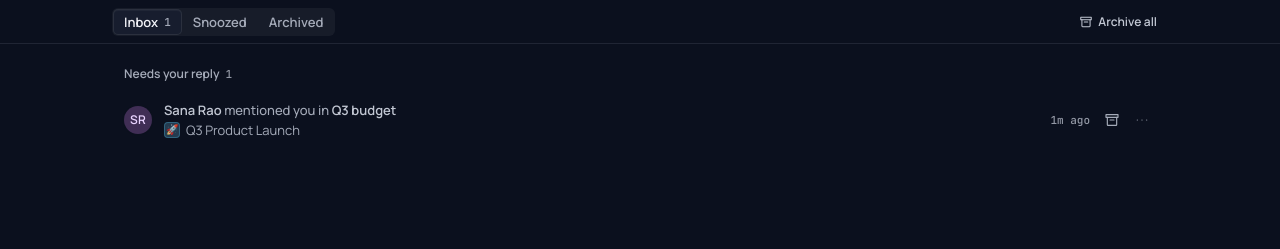
InboxView — one-key actions › R opens an inline reply; ⌘↵ sends it to the task with the person mentioned
The width and height of the screenshot is (1280, 249).
Press j
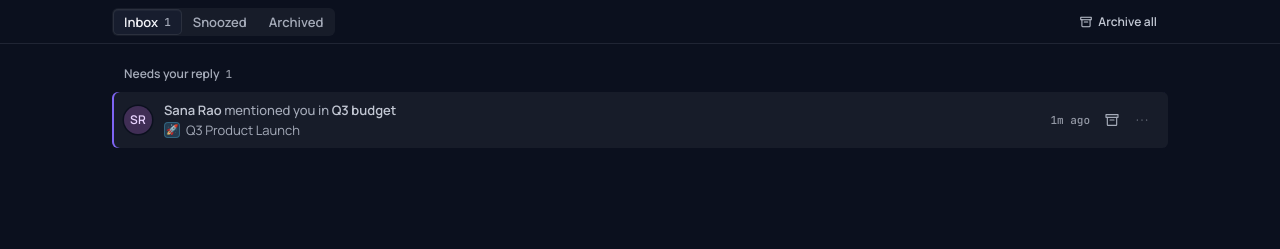
Press r in the button "Sana Rao mentioned you in Q3 budget", box [164,100,1038,120]
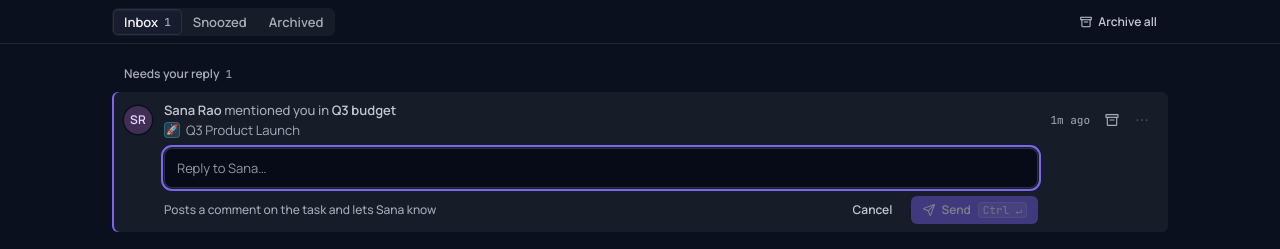
Type "On it, sending tonight" into the text box labelled "Reply to Sana" at (601, 168), box [164,148,1038,188]
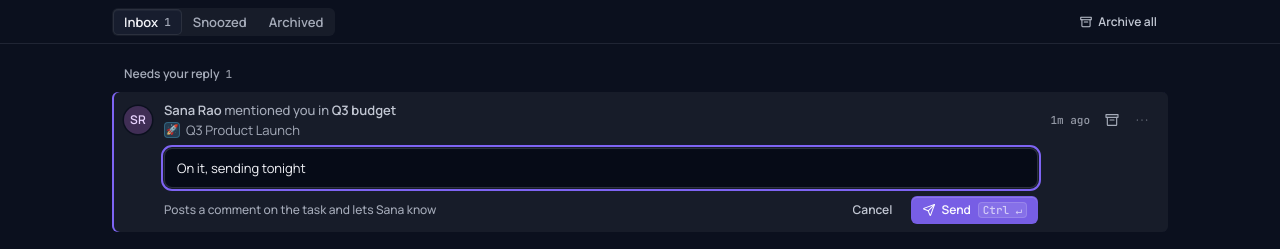
Press Enter in the text box named "Reply to Sana", box [164,148,1038,188]
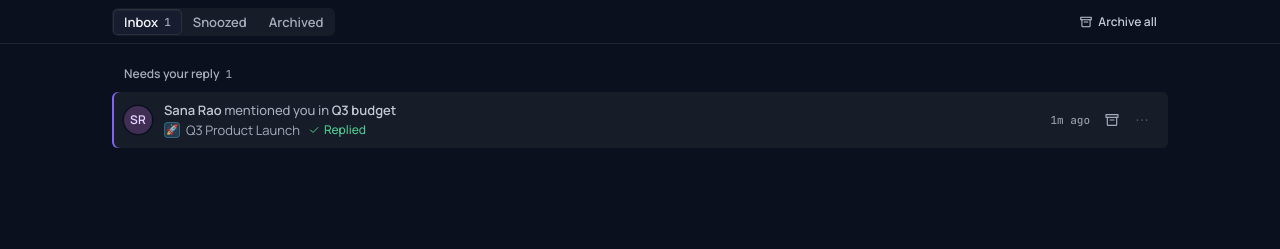
Expected: the text "Replied" is shown, [308,122,366,138]
